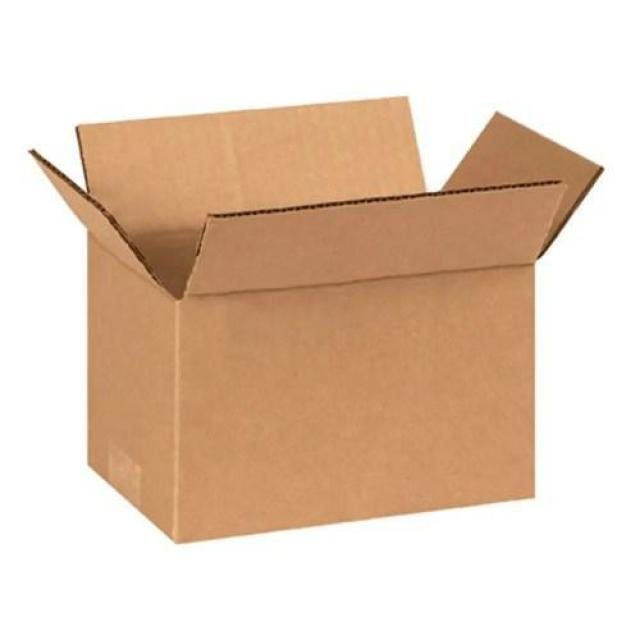cardboard: (27, 95, 605, 546)
